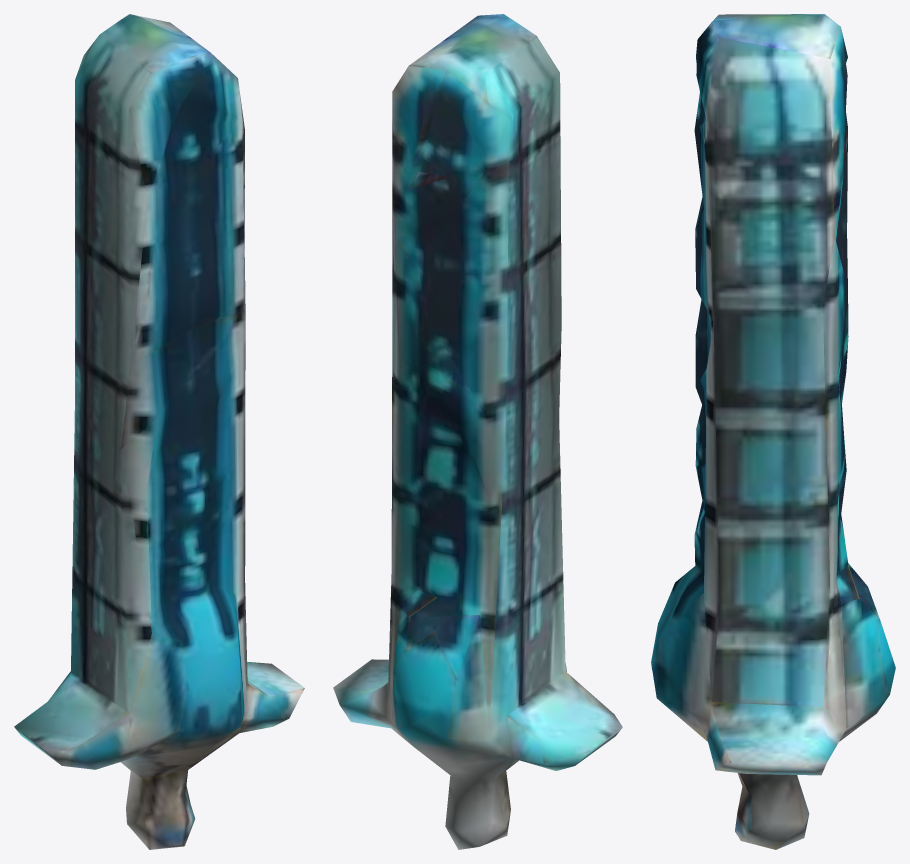
File: sword_wide.glb
The picture shows the model from 3 angles, left to right: view 1: azimuth 30°, elevation 25°; view 2: azimuth 150°, elevation 25°; view 3: azimuth 270°, elevation 25°; orthographic projection.
Parts seen in each view (by area): view 1: wide sword; view 2: wide sword; view 3: wide sword.
Part boxes in pixels (bbox=[...]): wide sword: bbox=[14, 14, 304, 849]; wide sword: bbox=[333, 14, 622, 849]; wide sword: bbox=[651, 14, 895, 849].
Size of the model in its own units: 0.1213 by 0.3628 by 0.0981.
1 material, 1 textured.
